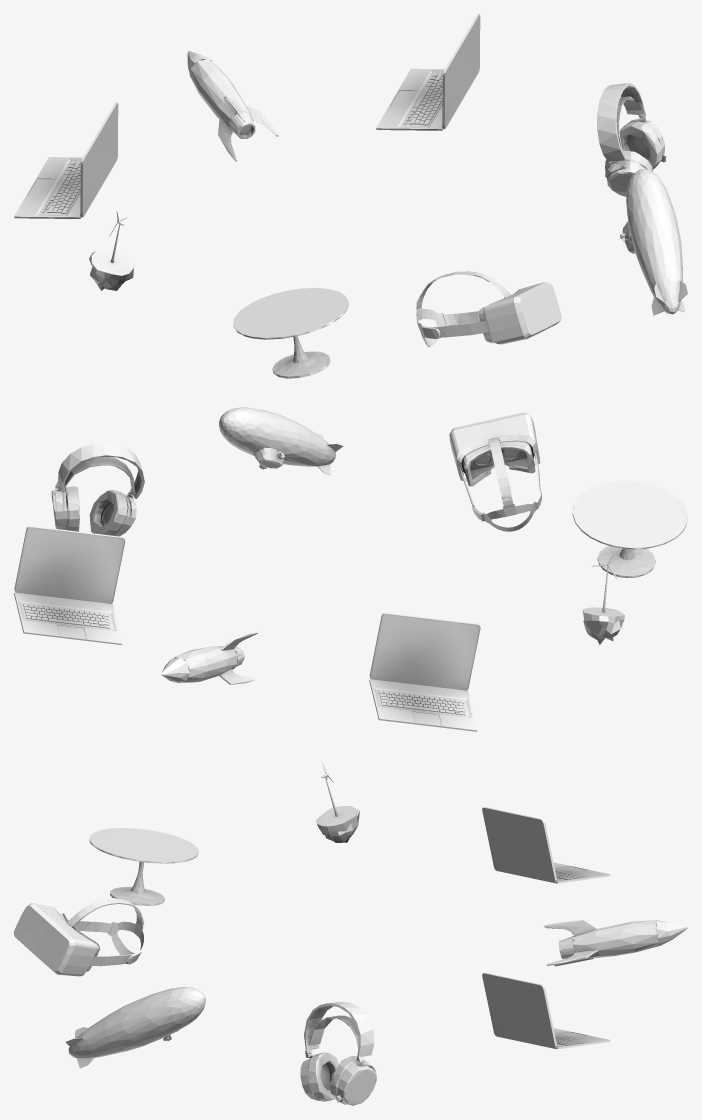
The picture shows the model from 3 angles, top to bottom: view 1: azimuth 30°, elevation 25°; view 2: azimuth 150°, elevation 25°; view 3: azimuth 270°, elevation 25°; orthographic projection. The views are drawn at different scales.
Parts seen in each view (by area): view 1: Zeppelin, Table, VRHeadset, Notebook, Notebook2, Headphones, Rocket, Roundcube; view 2: Notebook2, Notebook, Table, VRHeadset, Headphones, Zeppelin, Rocket, Roundcube; view 3: VRHeadset, Zeppelin, Headphones, Notebook2, Notebook, Rocket, Table, Roundcube.
Boxes of the visible parts, x1,y1,x2,y2 form: Zeppelin: [620, 169, 687, 315]; Table: [233, 288, 348, 378]; VRHeadset: [416, 271, 561, 346]; Notebook: [376, 14, 480, 130]; Notebook2: [14, 102, 118, 218]; Headphones: [597, 83, 666, 196]; Rocket: [187, 51, 278, 161]; Roundcube: [89, 211, 134, 290]; Notebook2: [369, 612, 480, 731]; Notebook: [14, 526, 125, 644]; Table: [572, 481, 687, 577]; VRHeadset: [449, 412, 541, 531]; Headphones: [51, 443, 144, 536]; Zeppelin: [219, 407, 343, 475]; Rocket: [161, 632, 257, 684]; Roundcube: [582, 551, 624, 644]; VRHeadset: [14, 898, 144, 976]; Zeppelin: [65, 987, 205, 1068]; Headphones: [300, 1002, 376, 1105]; Notebook2: [482, 807, 610, 883]; Notebook: [482, 973, 610, 1049]; Rocket: [544, 920, 687, 966]; Table: [89, 828, 198, 905]; Roundcube: [316, 760, 359, 842].
Bounding box in the file's own units: 27.91 × 5.31 × 30.13.
Materials: 8 (8 with a texture image).
